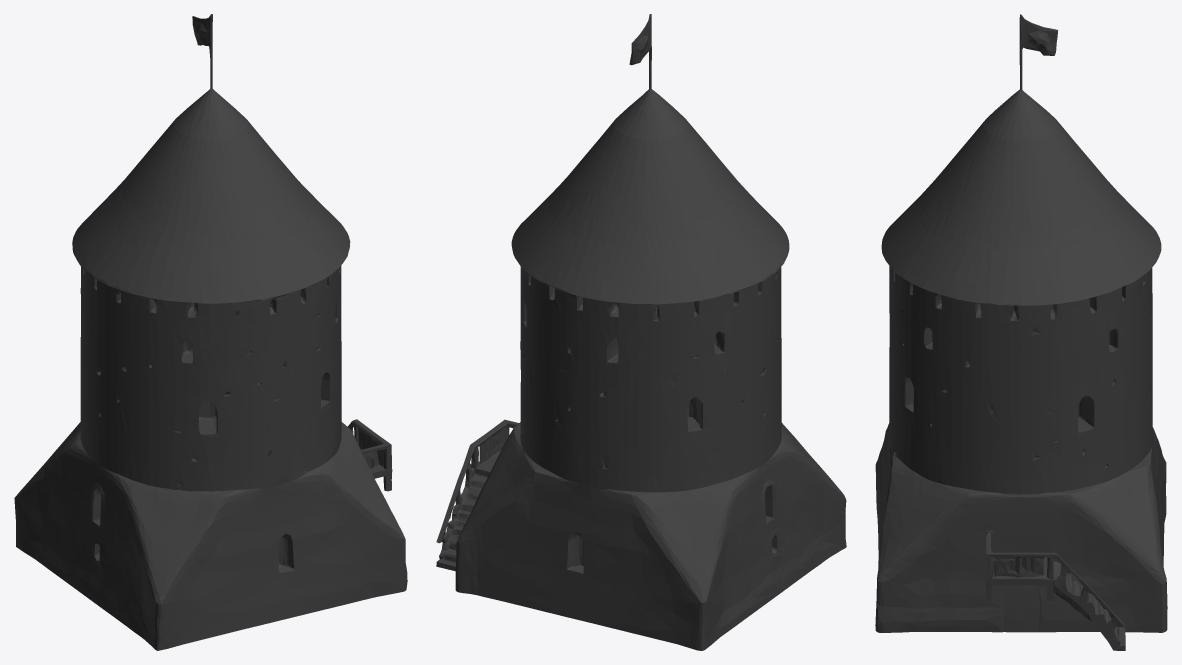
Rendered from original_shape.glb.
3 views of the same model, side by side, from view 1: azimuth 30°, elevation 25°; view 2: azimuth 150°, elevation 25°; view 3: azimuth 270°, elevation 25° (orthographic).
Visible parts, largest first — view 1: world; view 2: world; view 3: world.
Part boxes in pixels (x1,y1,x2,y2): world: (14,14,407,650); world: (436,14,846,650); world: (875,14,1167,650).
Bounding box in the file's own units: 0.4099 × 0.75 × 0.356.
1 material, 1 textured.
